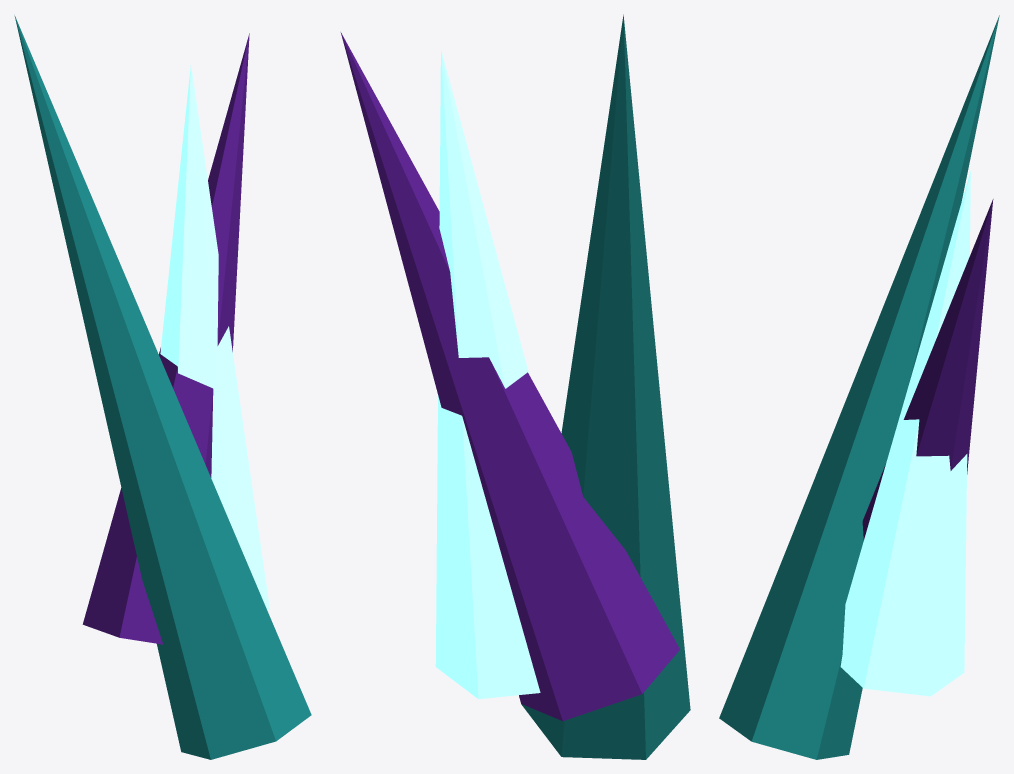
The model's file is Prop_OR_Crystal_12.glb.
3 views of the same model, side by side, from view 1: azimuth 30°, elevation 25°; view 2: azimuth 150°, elevation 25°; view 3: azimuth 270°, elevation 25° (orthographic). The views are drawn at different scales.
Visible parts, largest first — view 1: Prop_OR_Crystal_12; view 2: Prop_OR_Crystal_12; view 3: Prop_OR_Crystal_12.
Boxes of the visible parts, x1,y1,x2,y2 form: Prop_OR_Crystal_12: [14, 15, 311, 759]; Prop_OR_Crystal_12: [340, 14, 690, 759]; Prop_OR_Crystal_12: [719, 15, 999, 759].
Size of the model in its own units: 0.4897 by 1.39 by 0.5185.
